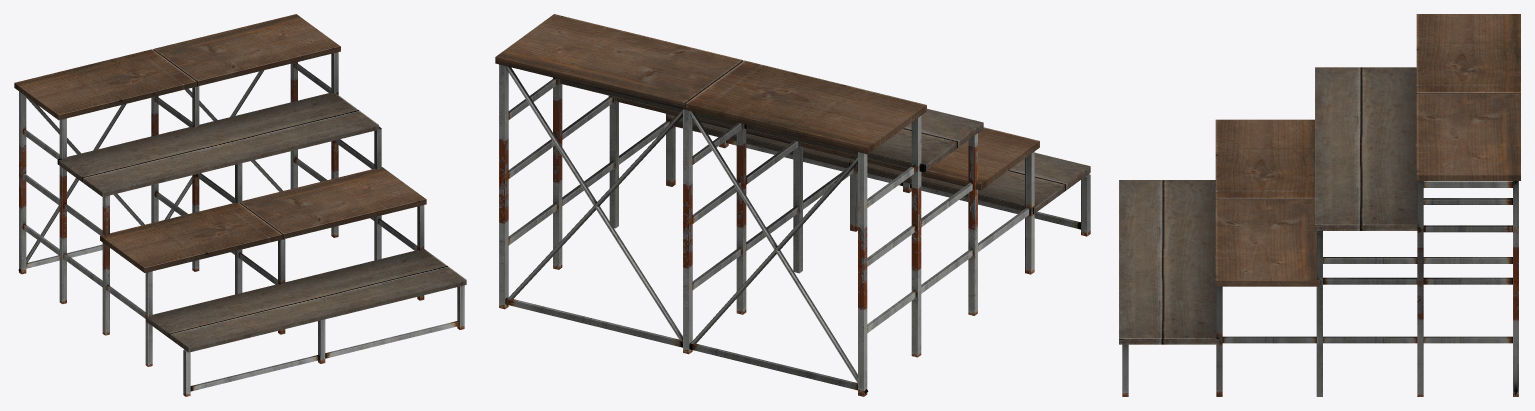
The model's file is Scaffolds_03.fbx.
3 renders of one model, left to right at view 1: azimuth 30°, elevation 25°; view 2: azimuth 150°, elevation 25°; view 3: azimuth 270°, elevation 25°, orthographic. The views are drawn at different scales.
Visible parts, largest first — view 1: Scaffold02; view 2: Scaffold02; view 3: Scaffold02.
Boxes of the visible parts, left/top/right/bottom form: Scaffold02: left=14, top=14, right=466, bottom=396; Scaffold02: left=495, top=14, right=1090, bottom=396; Scaffold02: left=1119, top=14, right=1520, bottom=396.
Bounding box in the file's own units: 304 × 196 × 320.
